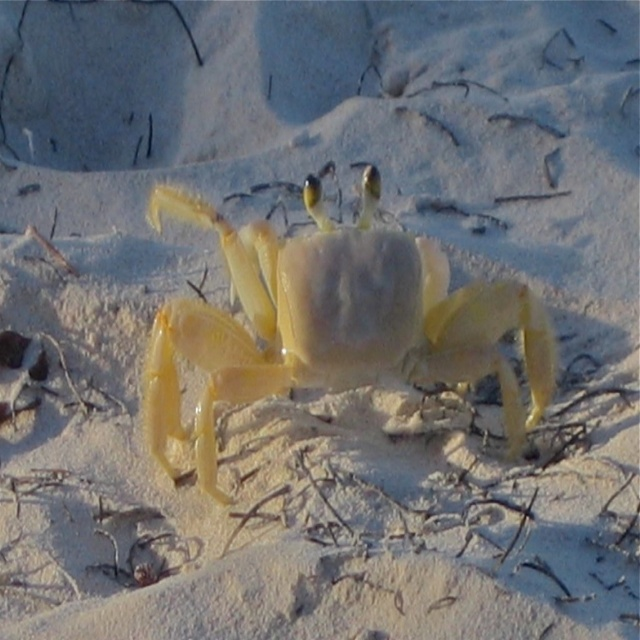Crab: (144, 159, 553, 508)
